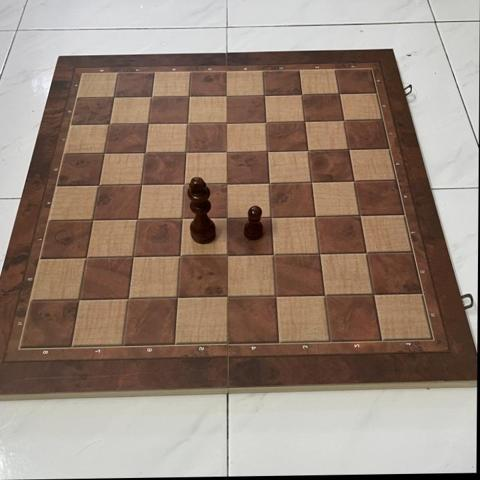xcorner: (293, 85, 311, 103), (143, 88, 161, 105), (219, 86, 236, 104), (179, 114, 197, 131), (219, 113, 236, 131), (296, 112, 314, 129), (218, 143, 236, 160), (300, 141, 317, 159), (218, 174, 235, 192), (345, 172, 362, 190), (263, 208, 280, 226), (171, 248, 189, 265), (265, 246, 282, 264), (311, 245, 328, 263), (315, 287, 333, 304), (106, 88, 123, 105), (181, 87, 198, 104), (256, 86, 273, 103), (331, 85, 348, 102), (101, 115, 118, 132), (140, 115, 157, 132), (258, 113, 275, 130), (335, 112, 352, 129), (96, 145, 113, 162), (137, 144, 154, 161), (178, 143, 195, 160), (259, 142, 276, 159), (340, 141, 357, 158), (90, 177, 107, 194), (133, 176, 150, 193), (176, 175, 193, 192), (261, 174, 278, 191), (303, 173, 320, 190), (84, 212, 101, 229), (129, 211, 146, 228), (174, 210, 191, 227), (218, 209, 235, 226), (307, 208, 324, 225), (351, 207, 368, 224), (78, 250, 95, 267), (125, 249, 142, 266), (218, 247, 235, 264), (357, 245, 374, 262), (70, 292, 87, 309), (120, 291, 137, 308), (169, 290, 186, 307), (218, 289, 235, 306), (267, 288, 284, 305), (364, 286, 381, 303)
